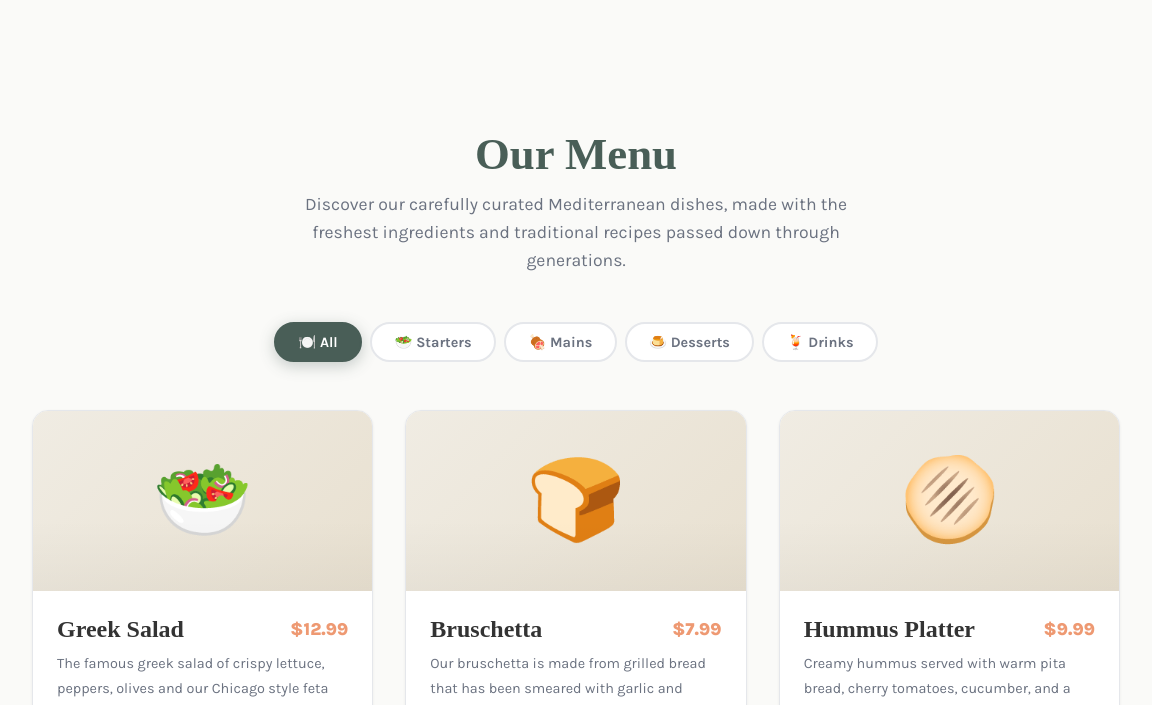
Menu Page › filters items when clicking Mains tab
Click the button "🍖 Mains".
click(560, 342)  # box [504, 322, 617, 362]
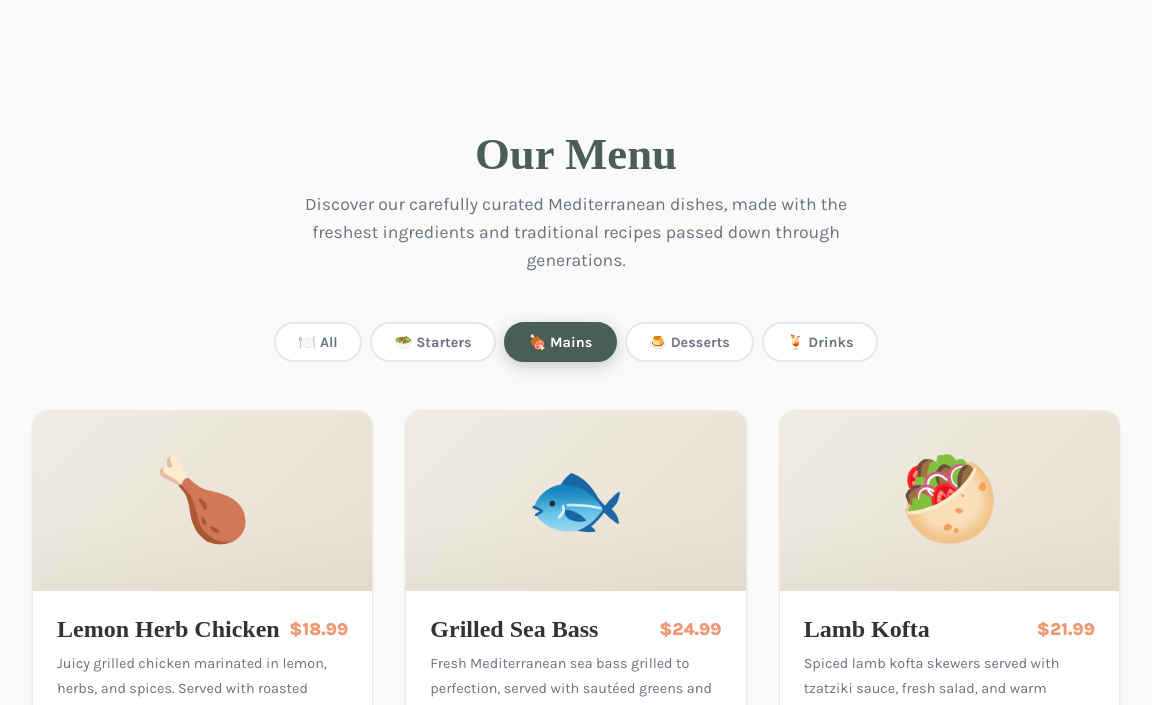
Expected: the heading "Lemon Herb Chicken" is shown, [57, 615, 280, 644]
Result: the heading "Greek Salad" is gone
